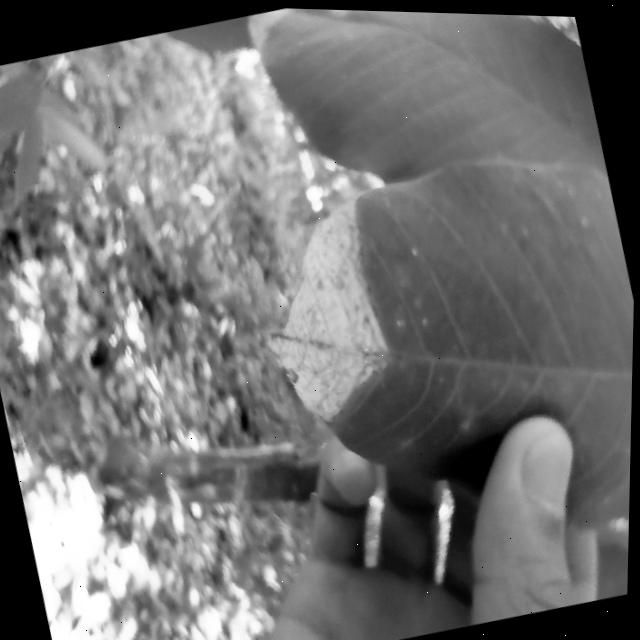Leaf-Blight: (239, 187, 407, 432), (244, 6, 303, 49)
